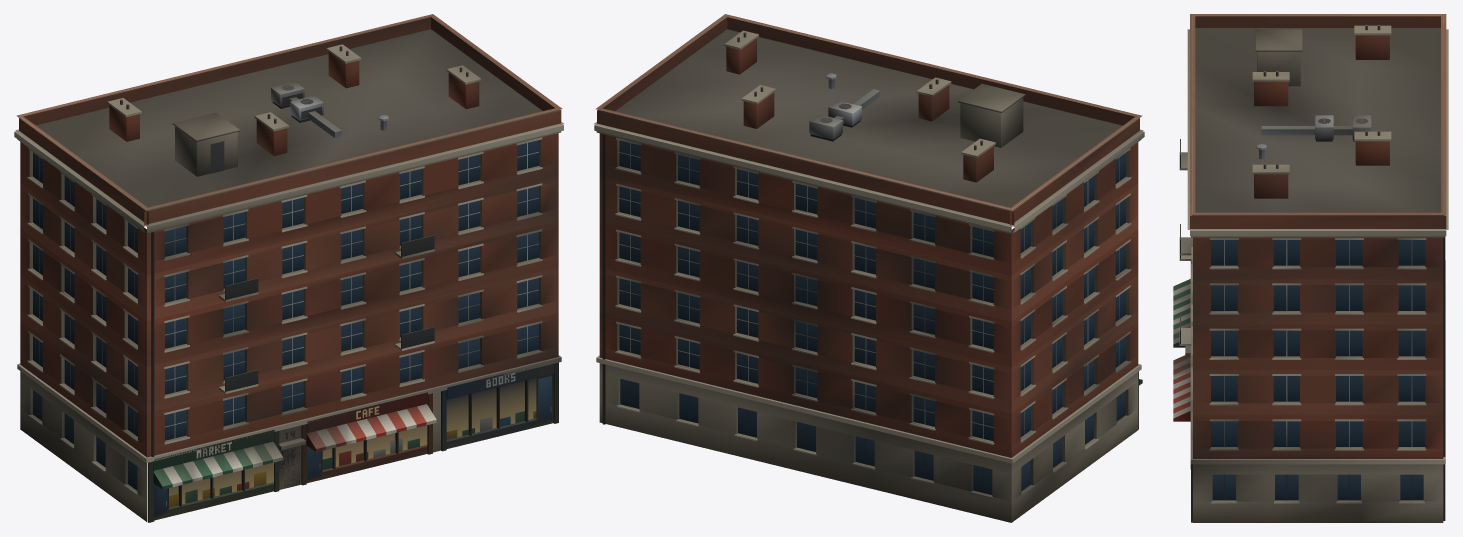
Rendered from building_a.glb.
3 renders of one model, left to right at view 1: azimuth 30°, elevation 25°; view 2: azimuth 150°, elevation 25°; view 3: azimuth 270°, elevation 25°, orthographic.
Parts seen in each view (by area): view 1: Building; view 2: Building; view 3: Building.
Boxes of the visible parts, x1=… form: Building: x1=14, y1=14, x2=563, y2=522; Building: x1=593, y1=14, x2=1144, y2=522; Building: x1=1173, y1=14, x2=1448, y2=522.
Bounding box in the file's own units: 30.68 × 23.62 × 17.59.
